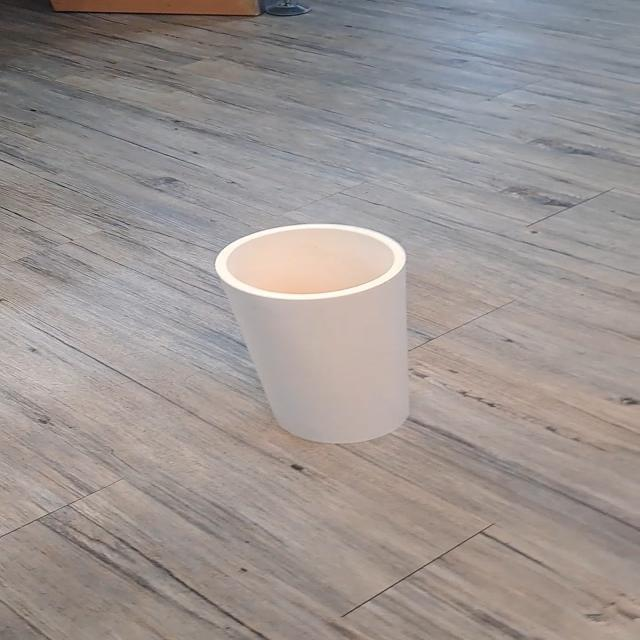CORAL: (178, 196, 481, 472)
